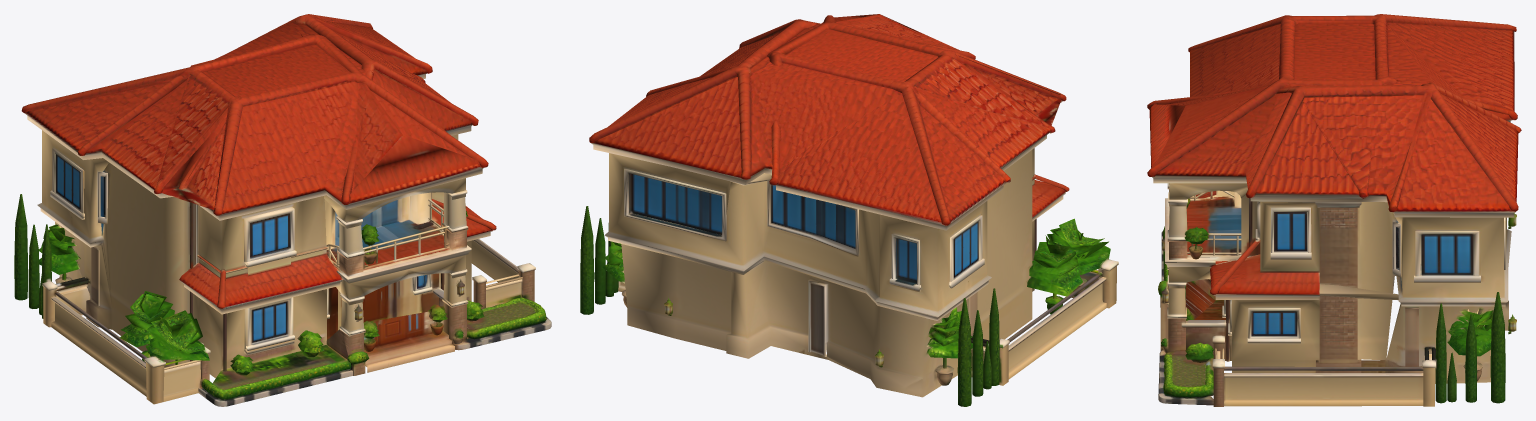
Rendered from beige two-story house 3d model.fbx.
The picture shows the model from 3 angles, left to right: view 1: azimuth 30°, elevation 25°; view 2: azimuth 150°, elevation 25°; view 3: azimuth 270°, elevation 25°; orthographic projection. The views are drawn at different scales.
Parts seen in each view (by area): view 1: tripo_node_4a83ba0f; view 2: tripo_node_4a83ba0f; view 3: tripo_node_4a83ba0f.
Part boxes in pixels (x1,y1,x2,y2): tripo_node_4a83ba0f: [14, 14, 551, 406]; tripo_node_4a83ba0f: [580, 14, 1118, 406]; tripo_node_4a83ba0f: [1147, 14, 1521, 406].
Size of the model in its own units: 0.9995 by 0.6118 by 0.8003.
